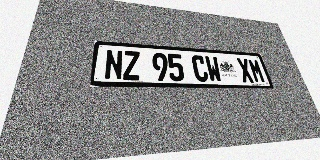5: (167, 53, 185, 81)
9: (152, 52, 170, 81)
C: (191, 55, 209, 82)
M: (247, 59, 266, 83)
N: (104, 49, 123, 80)
W: (204, 56, 223, 82)
X: (236, 58, 255, 83)
Z: (123, 51, 140, 80)
